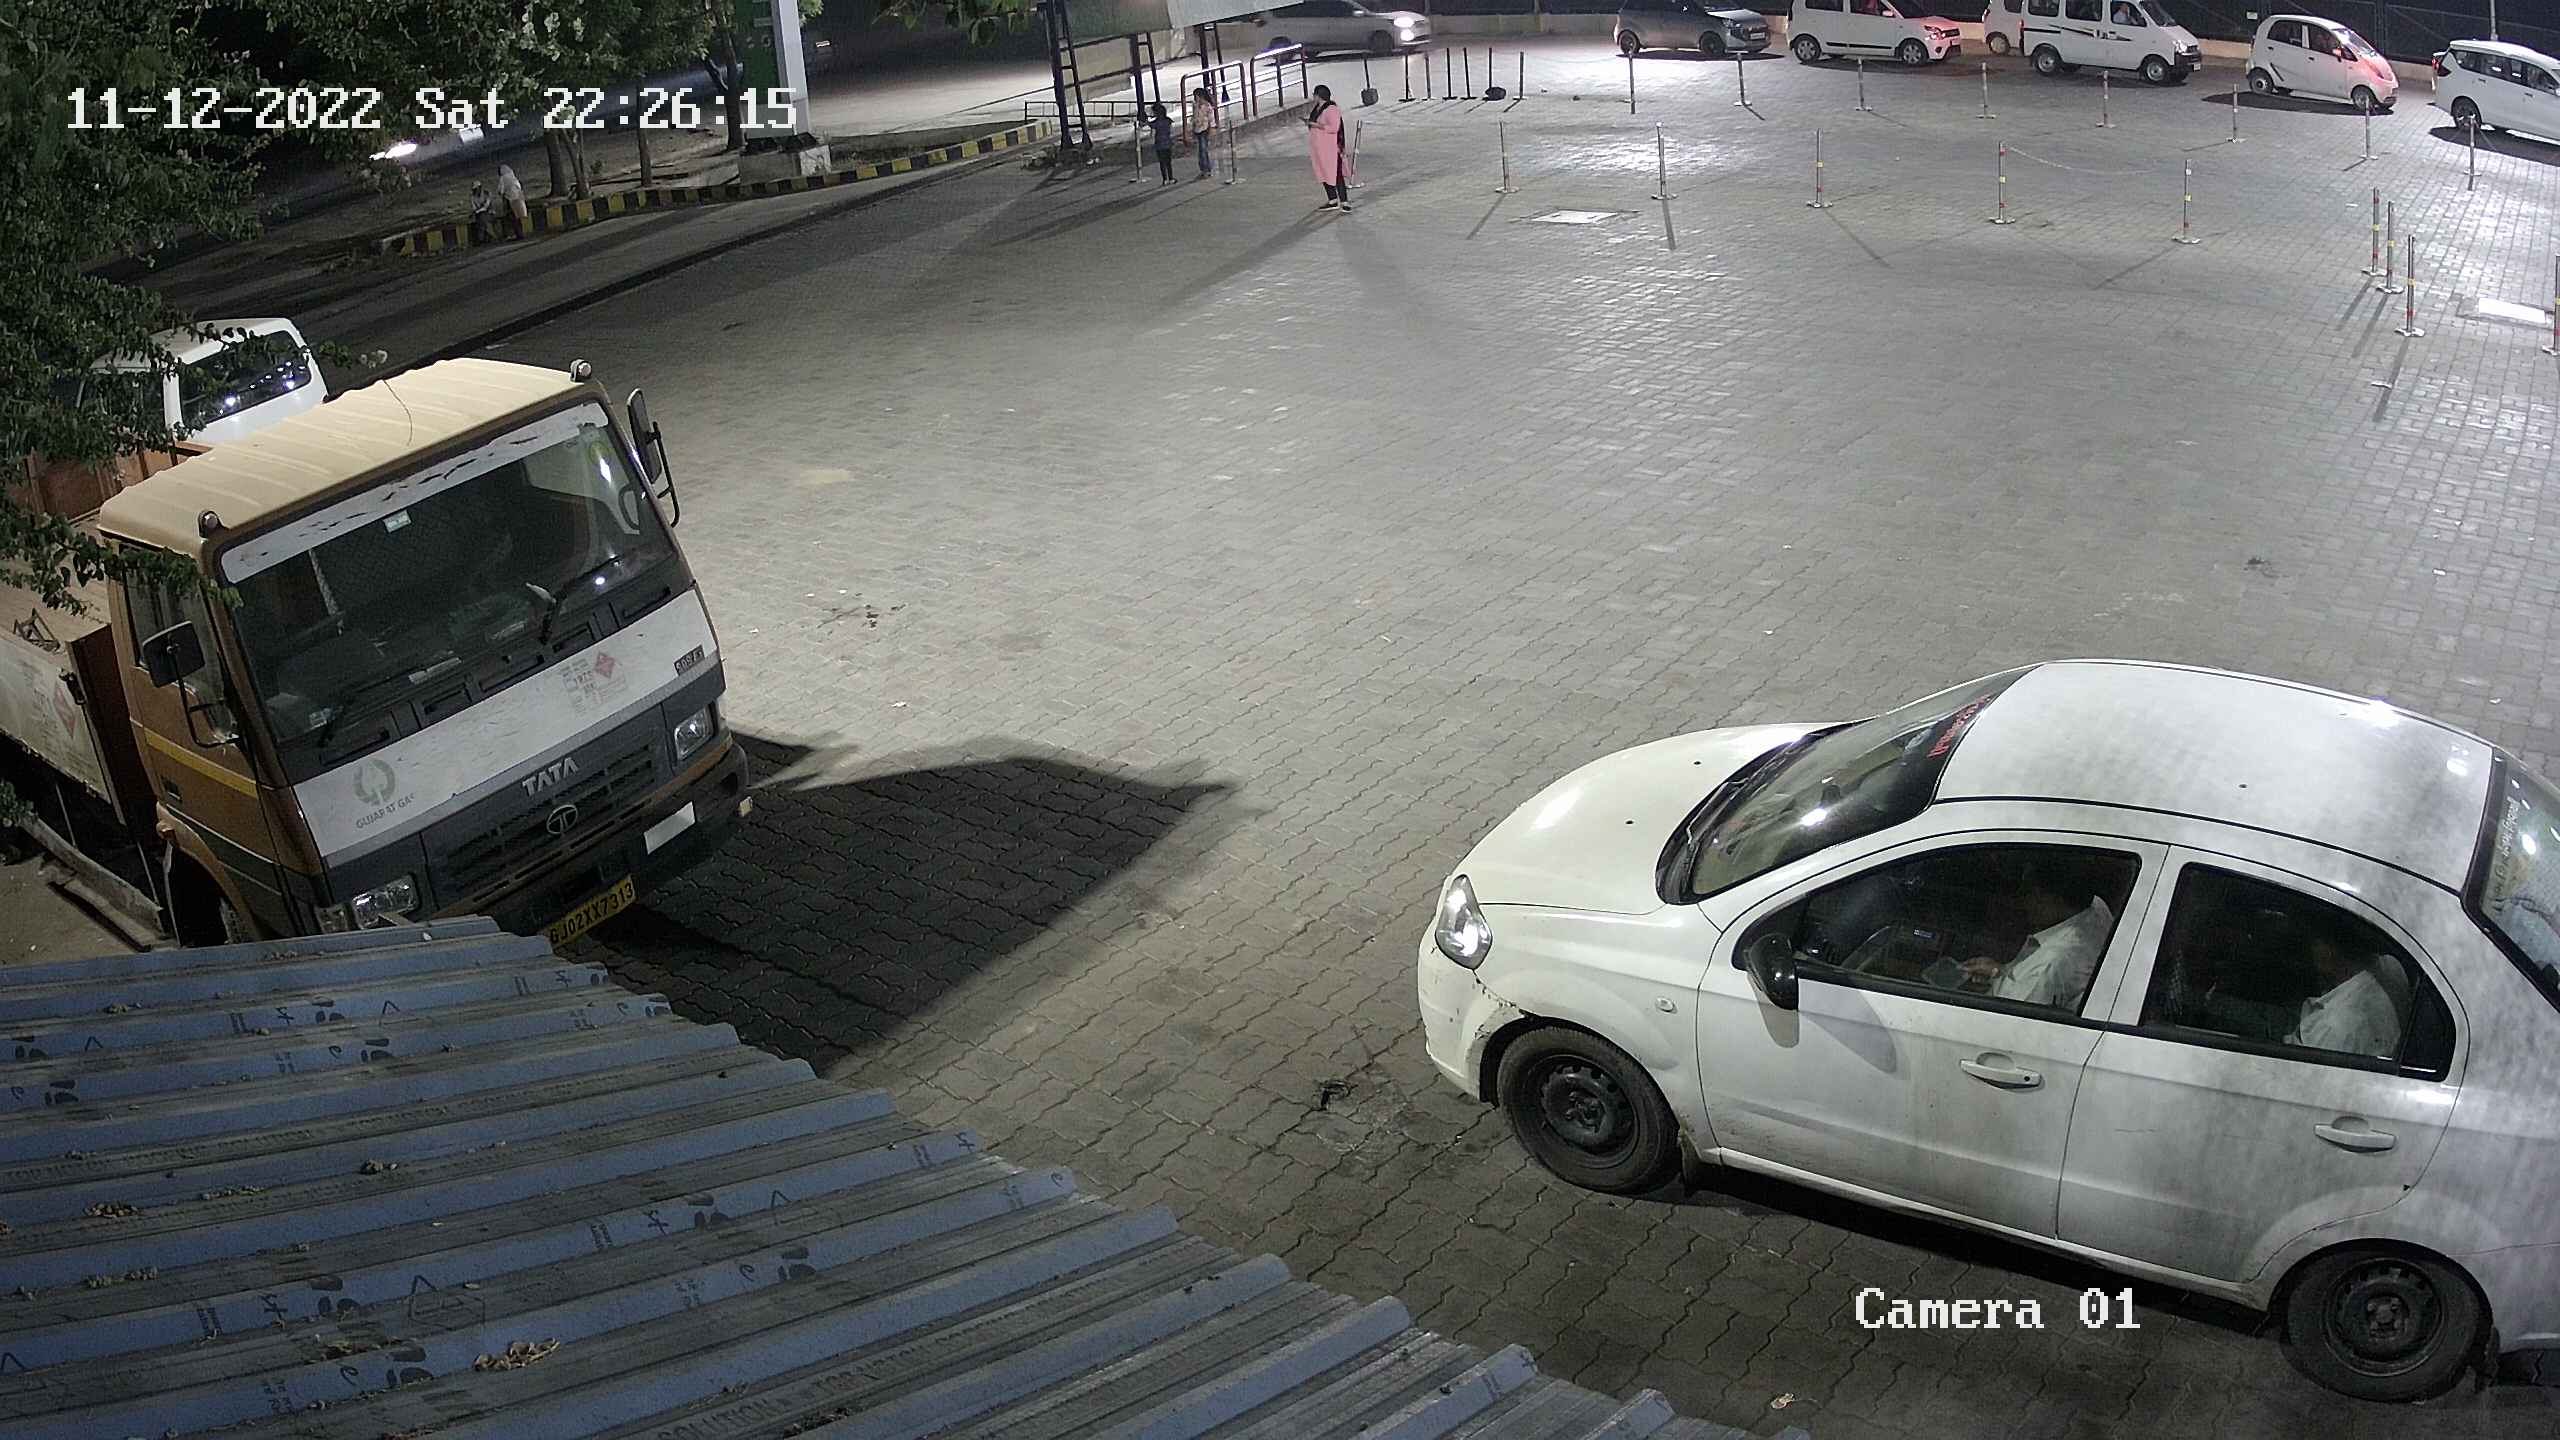Car: (1403, 645, 2558, 1414), (46, 306, 353, 454), (2229, 4, 2414, 120), (2416, 25, 2560, 172), (2011, 0, 2212, 84), (1783, 0, 1967, 69), (1240, 0, 1438, 62), (1604, 2, 1776, 62), (1978, 2, 2041, 60)
HMV: (4, 339, 775, 965)
